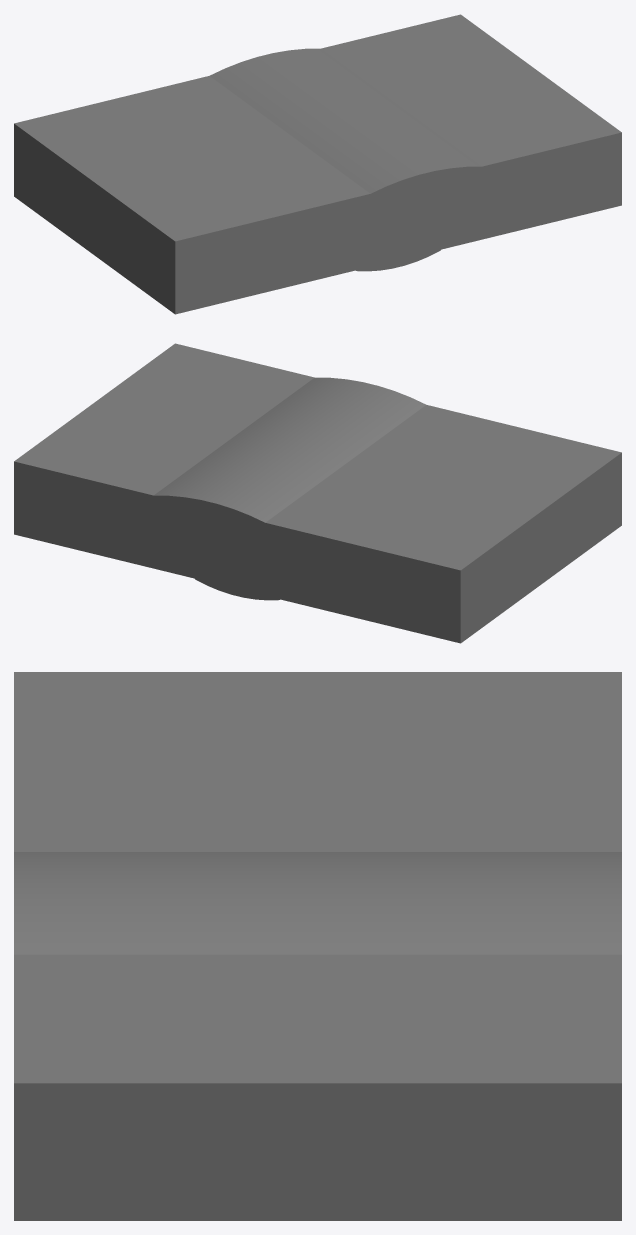
3 views of the same model, one above another, from view 1: azimuth 30°, elevation 25°; view 2: azimuth 150°, elevation 25°; view 3: azimuth 270°, elevation 25° (orthographic). The views are drawn at different scales.
Visible parts, largest first — view 1: mesh_id4, mesh_id5; view 2: mesh_id4, mesh_id5; view 3: mesh_id4, mesh_id5.
Boxes of the visible parts, x1,y1,x2,y2 form: mesh_id4: (14,14,621,314); mesh_id5: (210,48,481,271); mesh_id4: (14,343,621,643); mesh_id5: (154,377,425,600); mesh_id4: (14,672,621,1220); mesh_id5: (14,852,621,954).
Bounding box in the file's own units: 0.512 × 0.0957 × 0.32.
2 materials, 2 textured.
